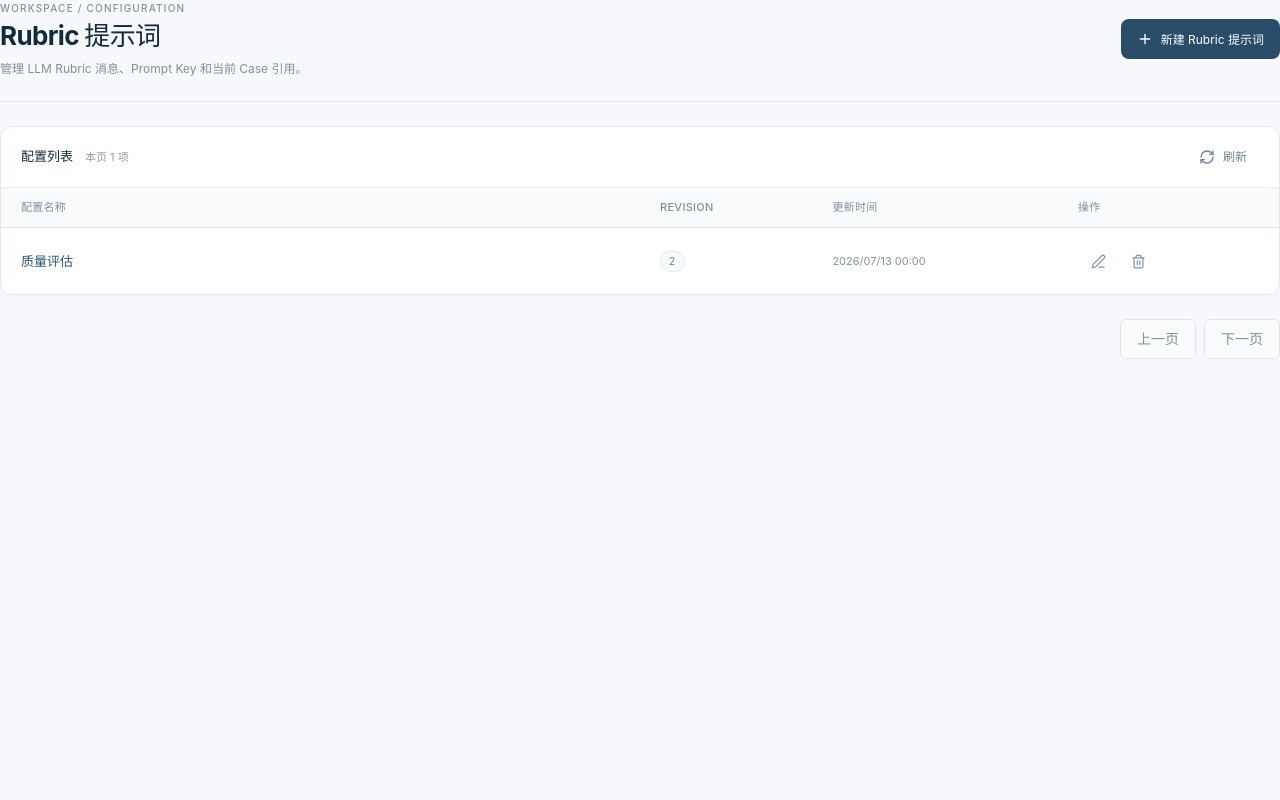
配置资源页面 › Rubric 删除确认显示引用并阻止提交
Click the button named "删除 质量评估": {"x": 1138, "y": 261} [1119,245,1158,277]
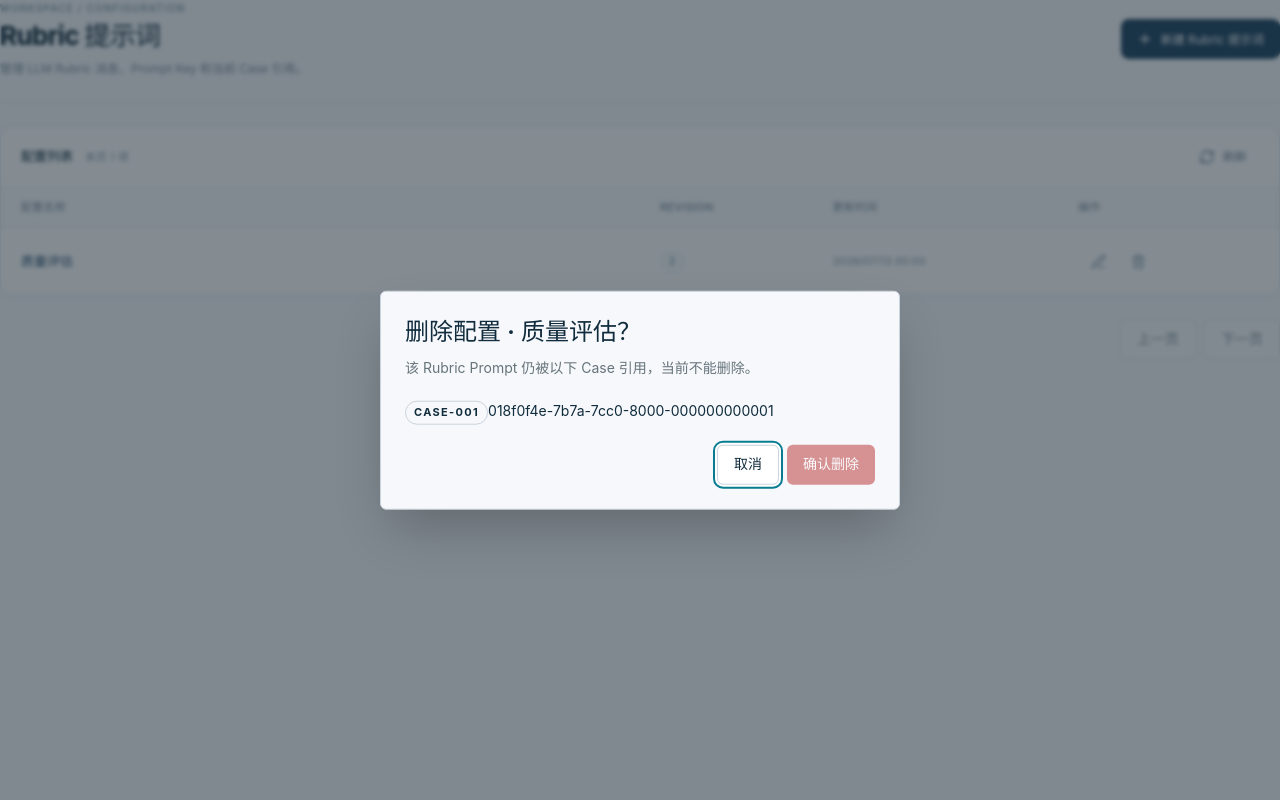
Result: the text "case-001" is shown at [405,401,488,424]
Result: the button "确认删除" is disabled at [787,444,875,484]
